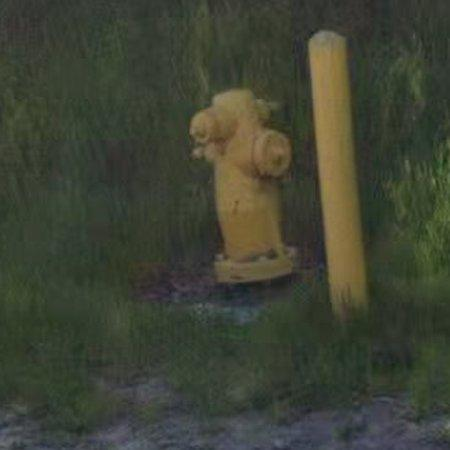a fire hydrant: (190, 89, 293, 283)
